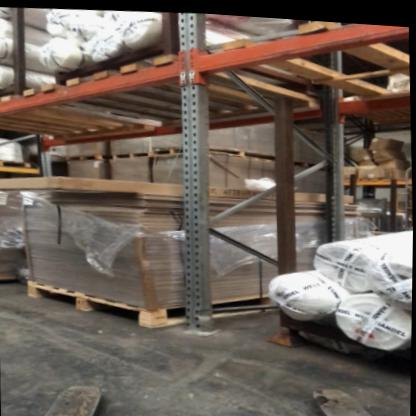vertical_damage: (178, 298, 223, 337)
